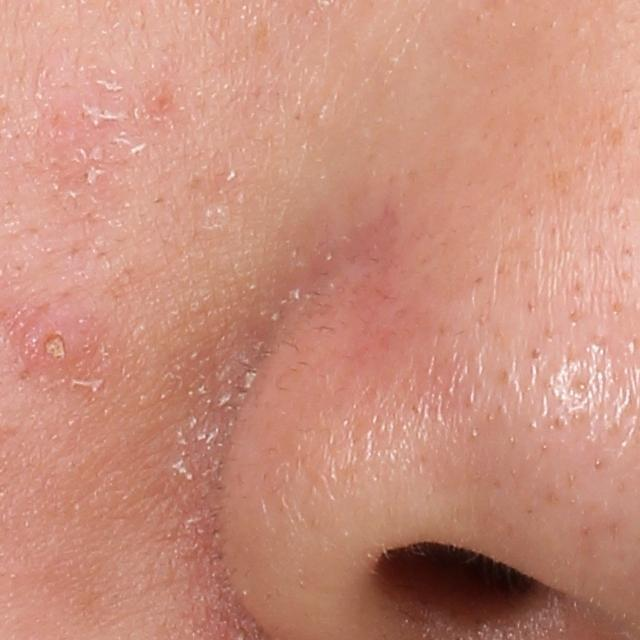pustule: (18, 304, 91, 380)
